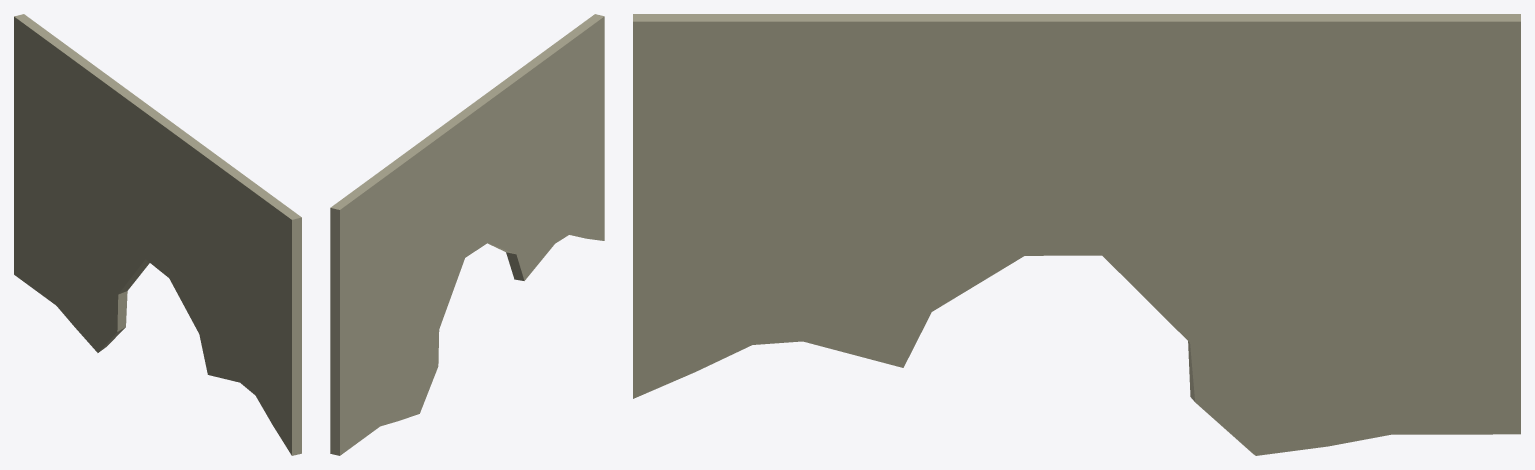
File: WallBrokenDebris.fbx
3 views of the same model, side by side, from view 1: azimuth 30°, elevation 25°; view 2: azimuth 150°, elevation 25°; view 3: azimuth 270°, elevation 25° (orthographic). The views are drawn at different scales.
Visible parts, largest first — view 1: WallBrokenDebris; view 2: WallBrokenDebris; view 3: WallBrokenDebris.
Boxes of the visible parts, left/top/right/bottom form: WallBrokenDebris: left=14, top=14, right=301, bottom=455; WallBrokenDebris: left=330, top=14, right=604, bottom=455; WallBrokenDebris: left=633, top=14, right=1520, bottom=455.
Size of the model in its own units: 0.25 by 6.56 by 12.
